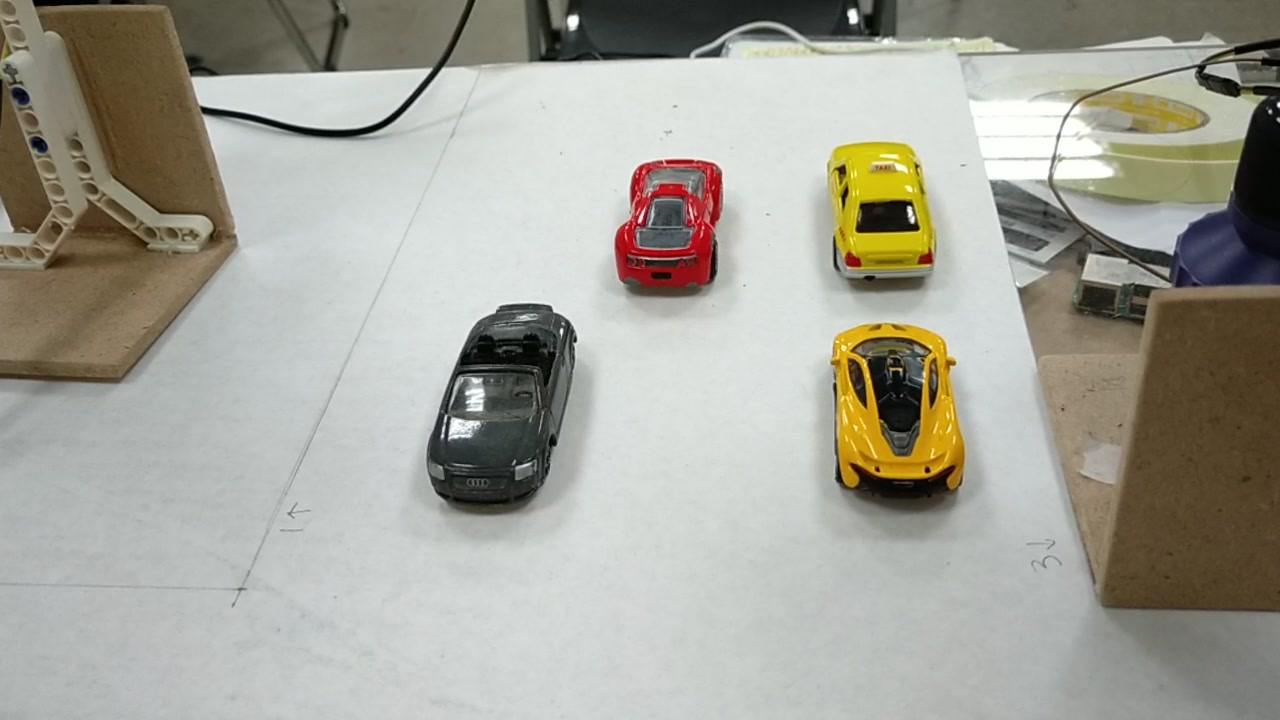car: (427, 309, 573, 499), (830, 332, 954, 493), (616, 158, 725, 292), (834, 136, 930, 281)
